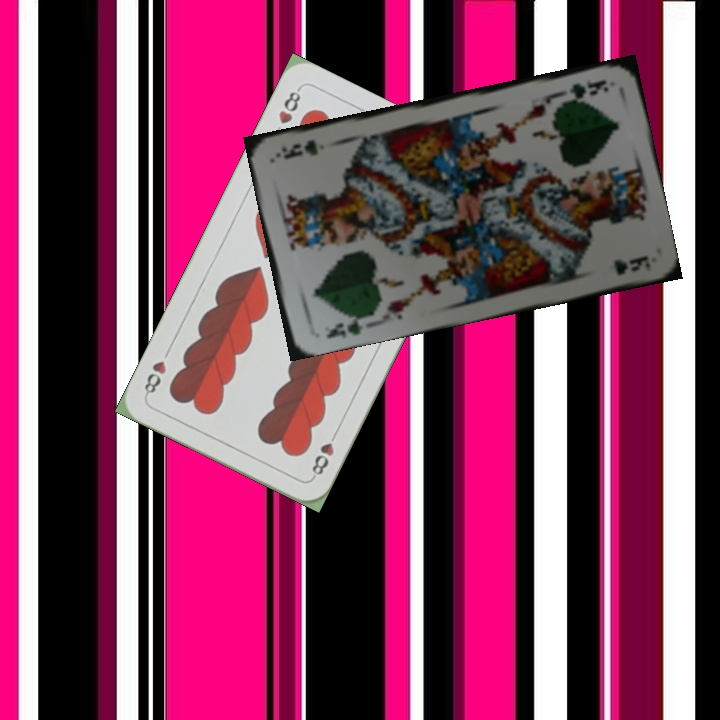GK: (557, 76, 611, 105), (322, 311, 367, 341)
H8: (308, 426, 341, 481), (274, 83, 304, 127)
